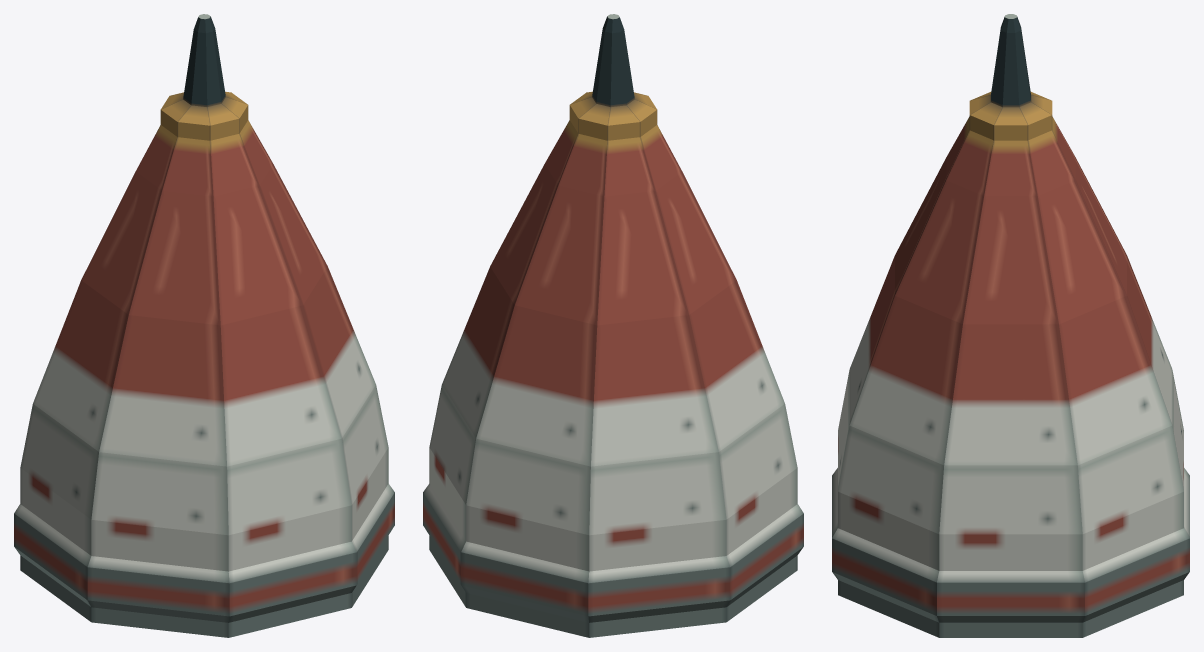
The model's file is rocket_cone_tier_2.obj.
3 views of the same model, side by side, from view 1: azimuth 30°, elevation 25°; view 2: azimuth 150°, elevation 25°; view 3: azimuth 270°, elevation 25° (orthographic).
Visible parts, largest first — view 1: Cone; view 2: Cone; view 3: Cone.
Part boxes in pixels (x1,y1,x2,y2): Cone: [14, 14, 394, 637]; Cone: [423, 14, 803, 637]; Cone: [832, 14, 1189, 637].
Bounding box in the file's own units: 1.33 × 2.25 × 1.33.
